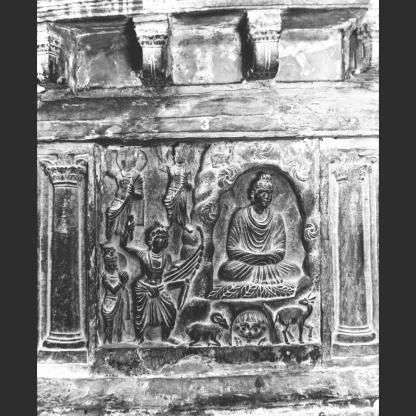buddha-sitting: (208, 174, 301, 299)
